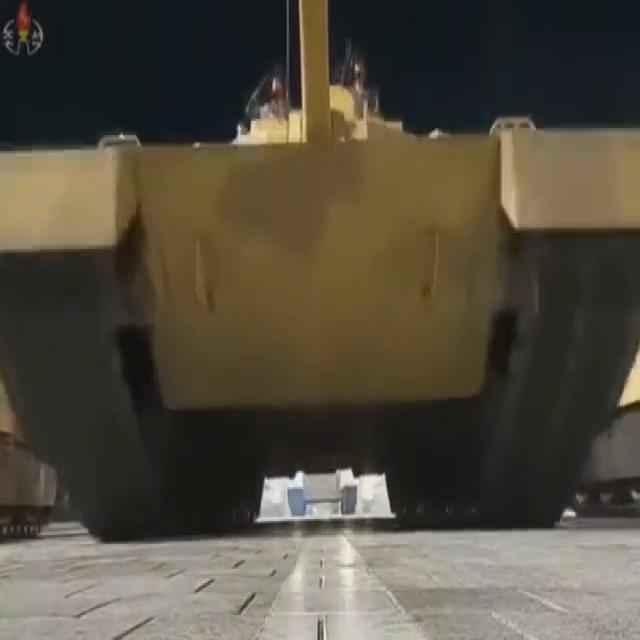north tank: (0, 1, 640, 564)
